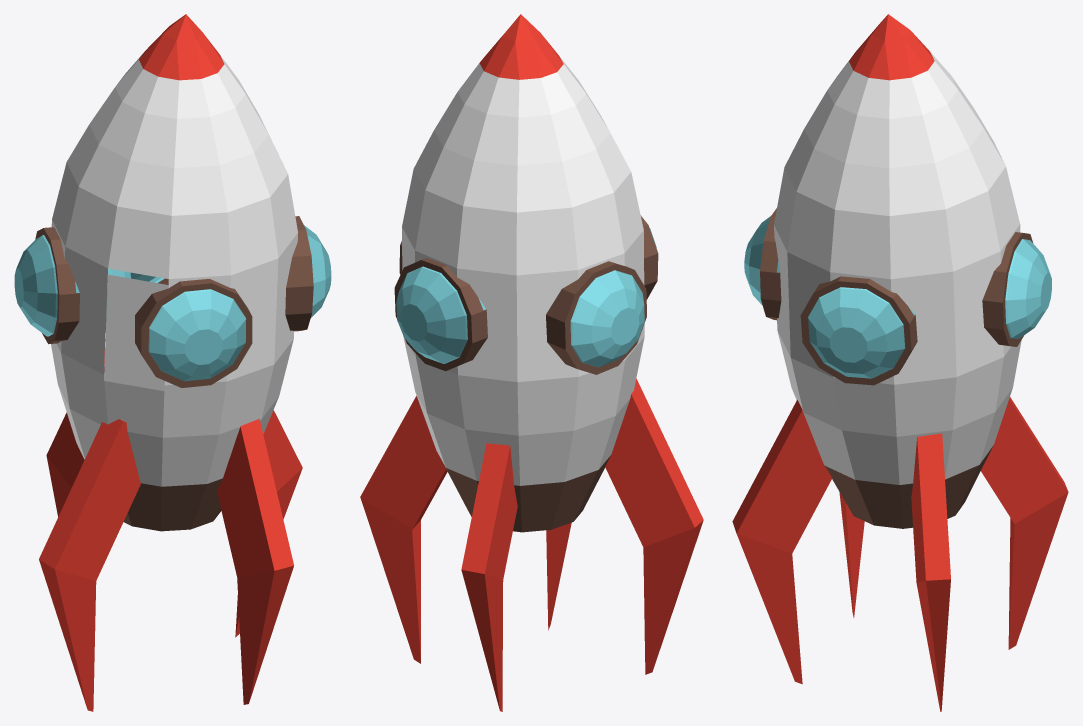
The model's file is rocket.glb.
The picture shows the model from 3 angles, left to right: view 1: azimuth 30°, elevation 25°; view 2: azimuth 150°, elevation 25°; view 3: azimuth 270°, elevation 25°; orthographic projection.
Visible parts, largest first — view 1: Node.063; view 2: Node.063; view 3: Node.063.
Part boxes in pixels (left/top/right/bottom): Node.063: left=14, top=14, right=331, bottom=711; Node.063: left=360, top=14, right=703, bottom=711; Node.063: left=732, top=14, right=1068, bottom=711.
Size of the model in its own units: 0.3208 by 0.6825 by 0.3135.
